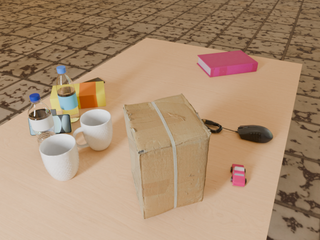book: (197, 51, 258, 77)
bottle: (28, 93, 56, 147), (56, 66, 80, 122)
box: (123, 94, 211, 219), (50, 81, 106, 111)
cup: (39, 134, 79, 181), (73, 109, 113, 151)
mouse: (234, 125, 273, 143)
phone: (28, 114, 72, 135)
toy_car: (230, 164, 247, 187)
